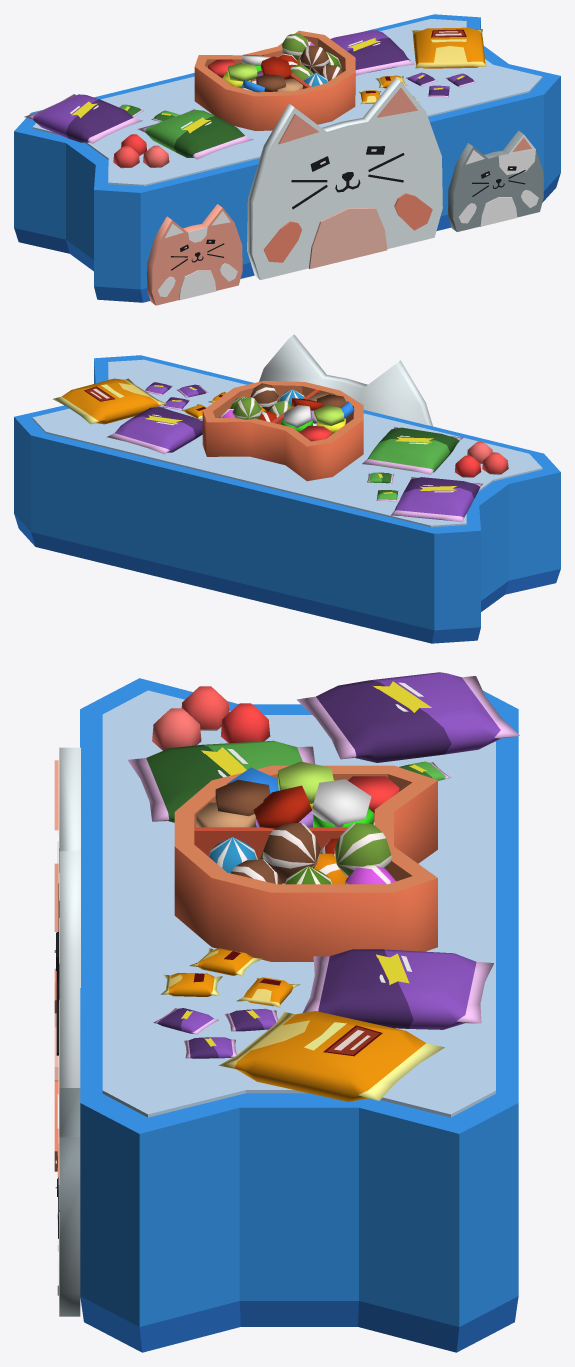
File: Ban keo 1.004.gltf
3 views of the same model, one above another, from view 1: azimuth 30°, elevation 25°; view 2: azimuth 150°, elevation 25°; view 3: azimuth 270°, elevation 25° (orthographic). The views are drawn at different scales.
Visible parts, largest first — view 1: Ban keo 1.004; view 2: Ban keo 1.004; view 3: Ban keo 1.004.
Part boxes in pixels (left/top/right/bottom): Ban keo 1.004: left=14, top=14, right=560, bottom=305; Ban keo 1.004: left=14, top=334, right=560, bottom=643; Ban keo 1.004: left=54, top=672, right=519, bottom=1352.
Size of the model in its own units: 8.29 by 2.79 by 3.58.
Materials: 1 (1 with a texture image).
